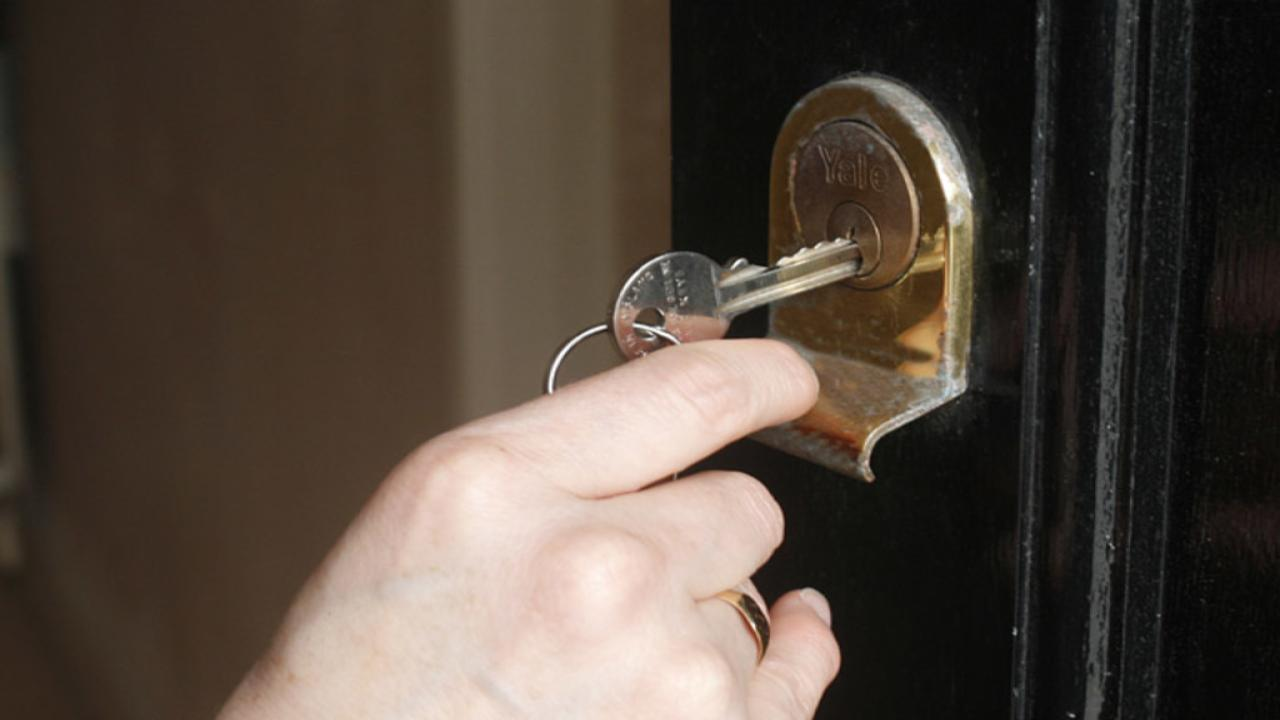ring: (710, 585, 774, 664)
